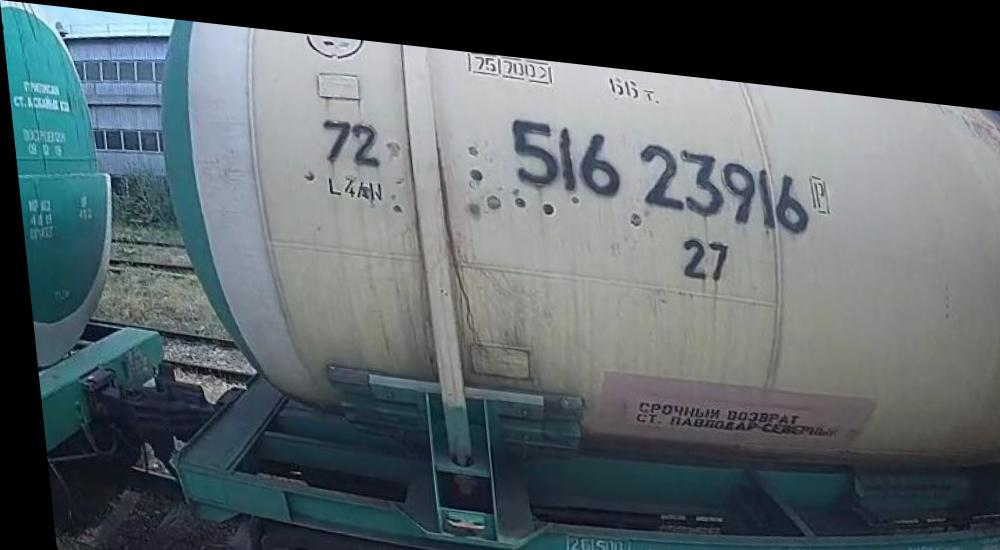Wagon-number: (500, 98, 811, 221)
